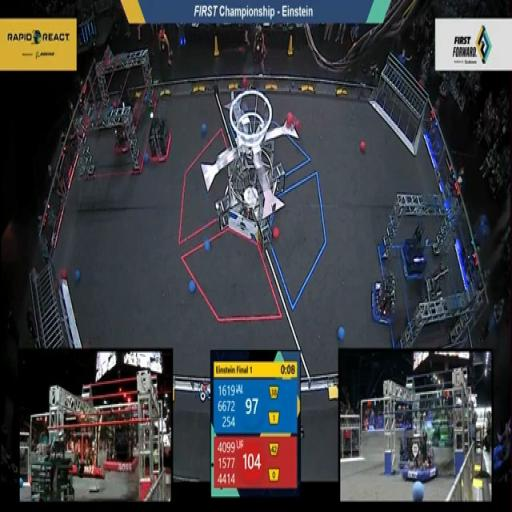robot: (366, 267, 402, 326), (417, 263, 450, 326), (398, 222, 430, 280), (113, 72, 139, 130), (146, 114, 173, 168), (113, 105, 135, 161)
